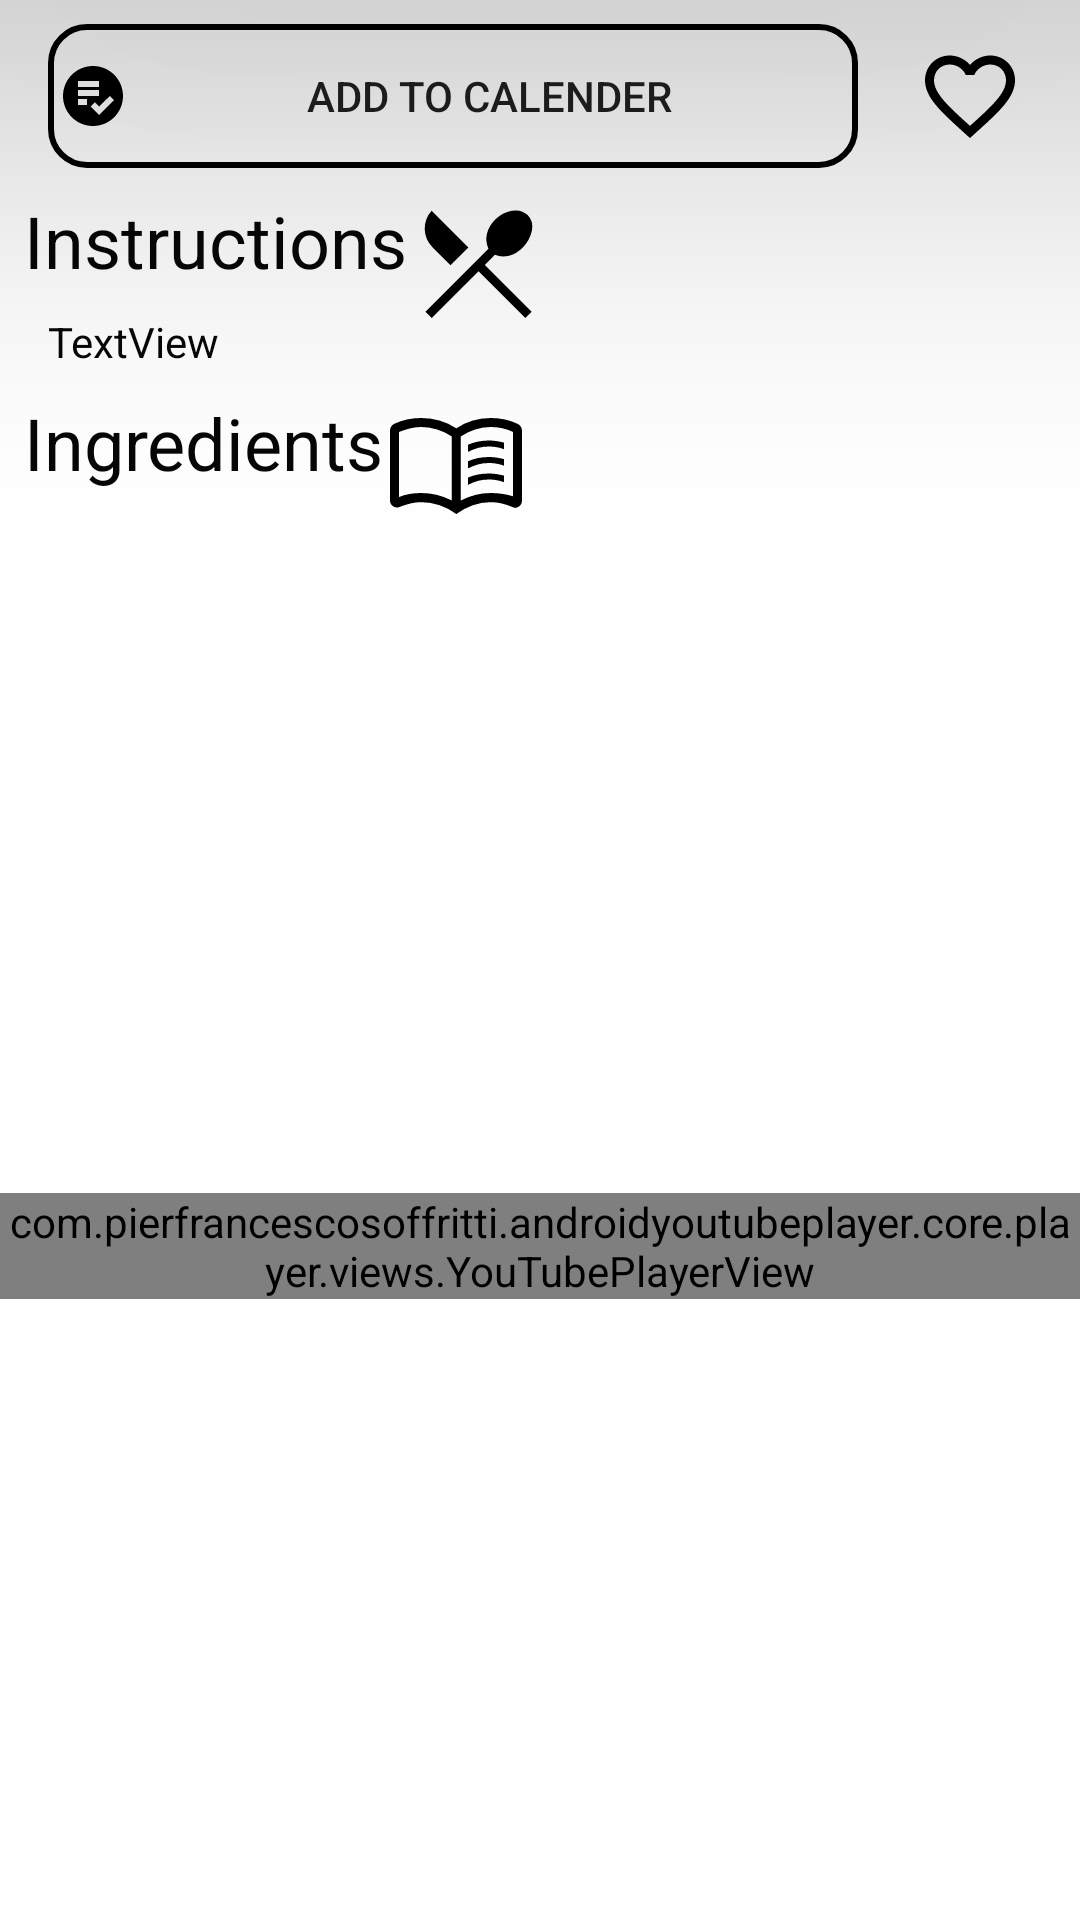

Named icons in this screenshot (1080*1920) and their bounding boxes, {"x1": x1, "y1": y1, "x2": x2, "y2": y2}:
favorite effect: {"x1": 925, "y1": 55, "x2": 1015, "y2": 138}
